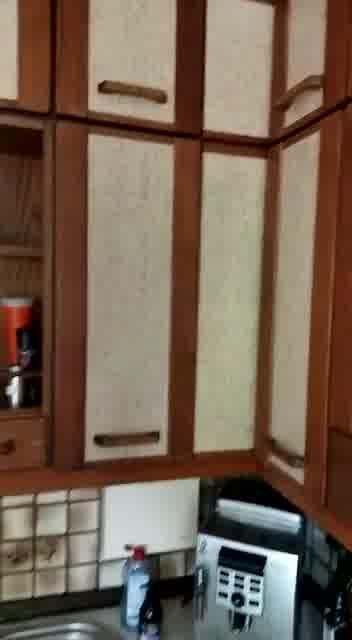cabinet_door: (54, 122, 193, 469), (259, 132, 343, 488), (55, 1, 197, 124), (271, 0, 352, 132)
handle: (272, 68, 333, 117), (92, 75, 169, 105), (90, 423, 165, 453), (262, 429, 307, 474)
